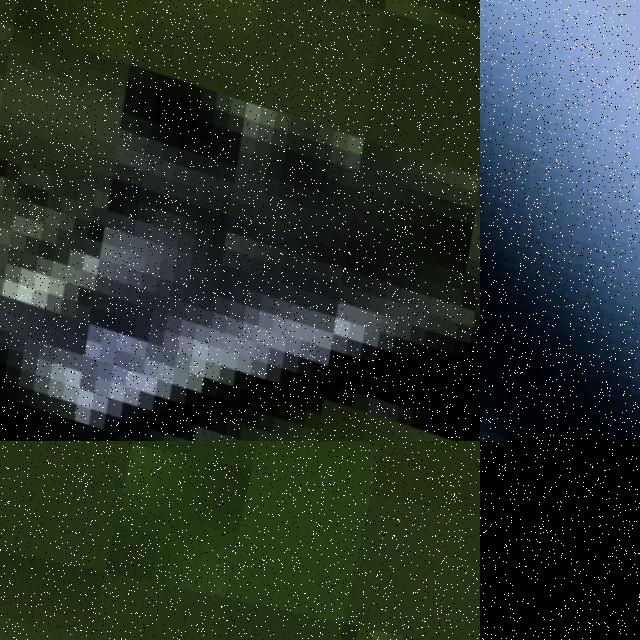drone: (0, 0, 480, 441), (480, 0, 640, 441), (480, 441, 640, 640)
